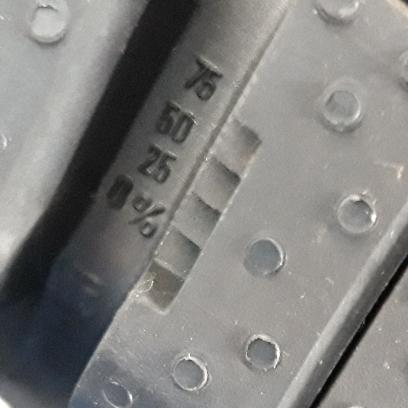temoin:100: (129, 80, 266, 318)
